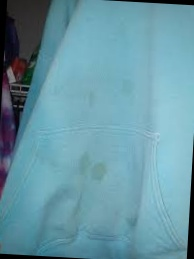mustard: (77, 151, 94, 175), (92, 164, 107, 180), (121, 77, 133, 95), (87, 92, 96, 108)
